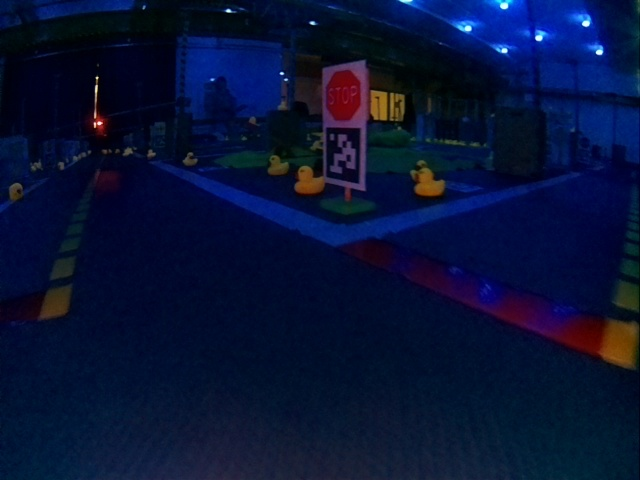Duckie: (294, 166, 326, 193), (414, 168, 444, 194), (266, 155, 287, 176), (9, 183, 23, 200), (182, 152, 198, 166), (146, 149, 156, 158)
QR code: (325, 126, 358, 184)
Stop sign: (324, 70, 362, 120)
